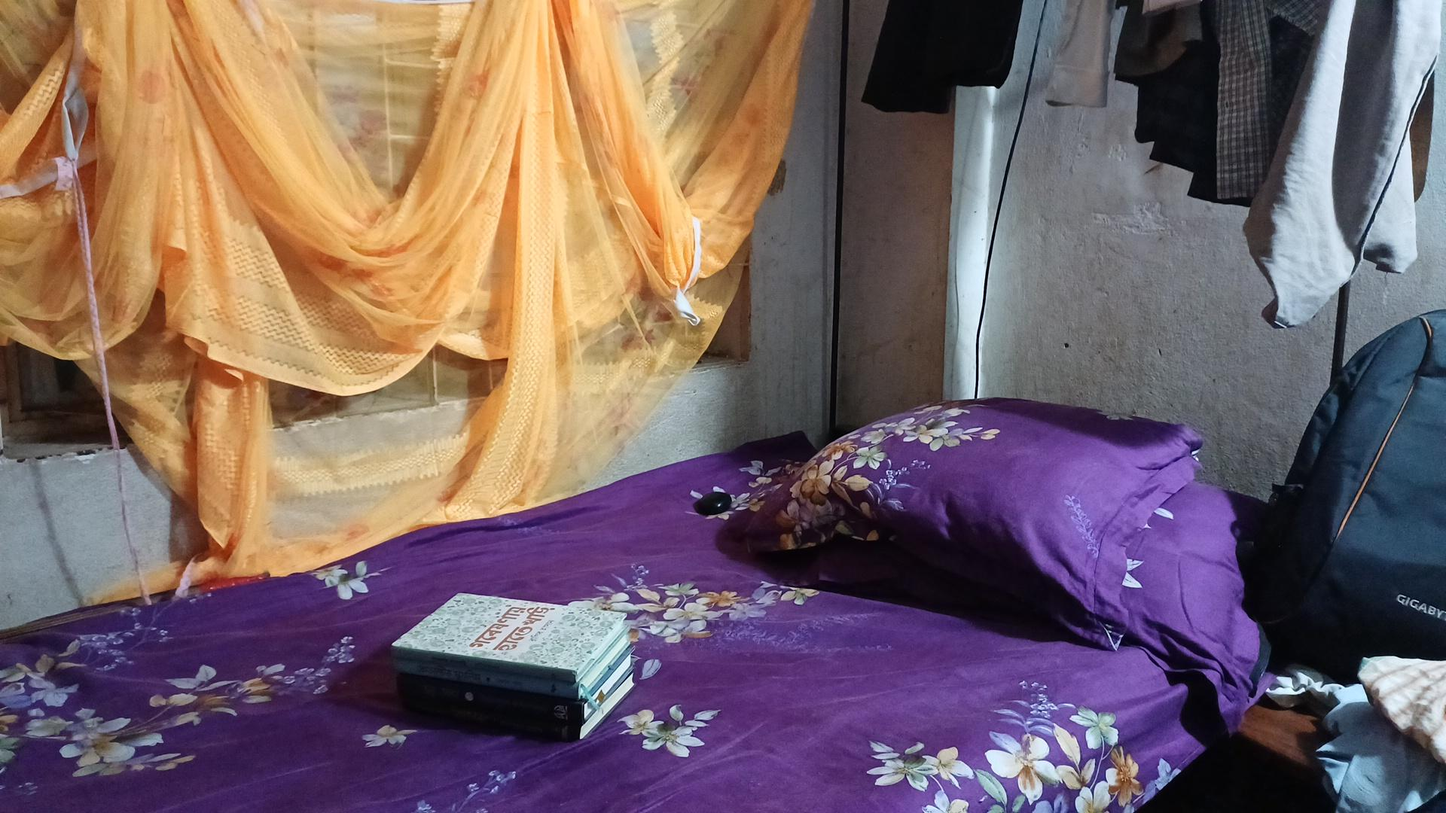Bag: (1282, 309, 1441, 648)
Book: (351, 587, 684, 750)
Pillow: (775, 357, 1237, 680)
